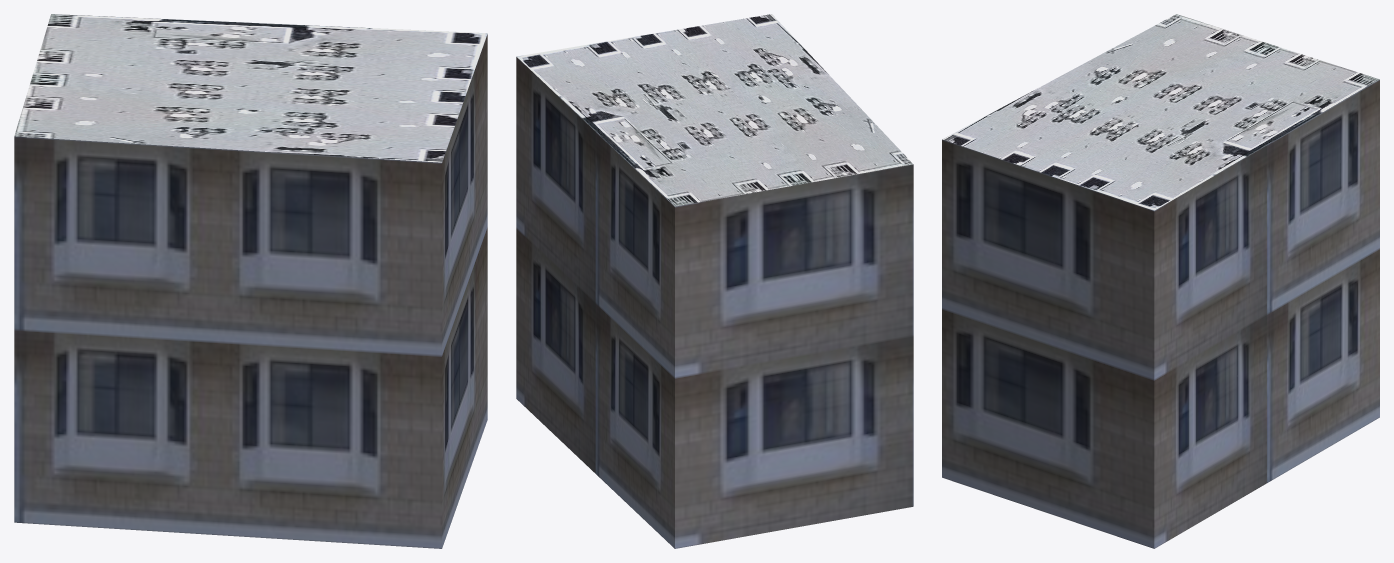
The model's file is ResTex__917.fbx.
3 views of the same model, side by side, from view 1: azimuth 30°, elevation 25°; view 2: azimuth 150°, elevation 25°; view 3: azimuth 270°, elevation 25° (orthographic). The views are drawn at different scales.
Parts seen in each view (by area): view 1: CityEngineMaterial_3_m, CityEngineMaterial_4_m; view 2: CityEngineMaterial_3_m, CityEngineMaterial_4_m; view 3: CityEngineMaterial_3_m, CityEngineMaterial_4_m.
Boxes of the visible parts, bbox=[...] form: CityEngineMaterial_3_m: bbox=[14, 34, 487, 548]; CityEngineMaterial_4_m: bbox=[14, 14, 487, 162]; CityEngineMaterial_3_m: bbox=[516, 57, 913, 548]; CityEngineMaterial_4_m: bbox=[516, 14, 912, 206]; CityEngineMaterial_3_m: bbox=[942, 79, 1379, 548]; CityEngineMaterial_4_m: bbox=[942, 14, 1379, 210].
Bounding box in the file's own units: 7.49 × 6 × 7.04.
2 materials, 2 textured.
